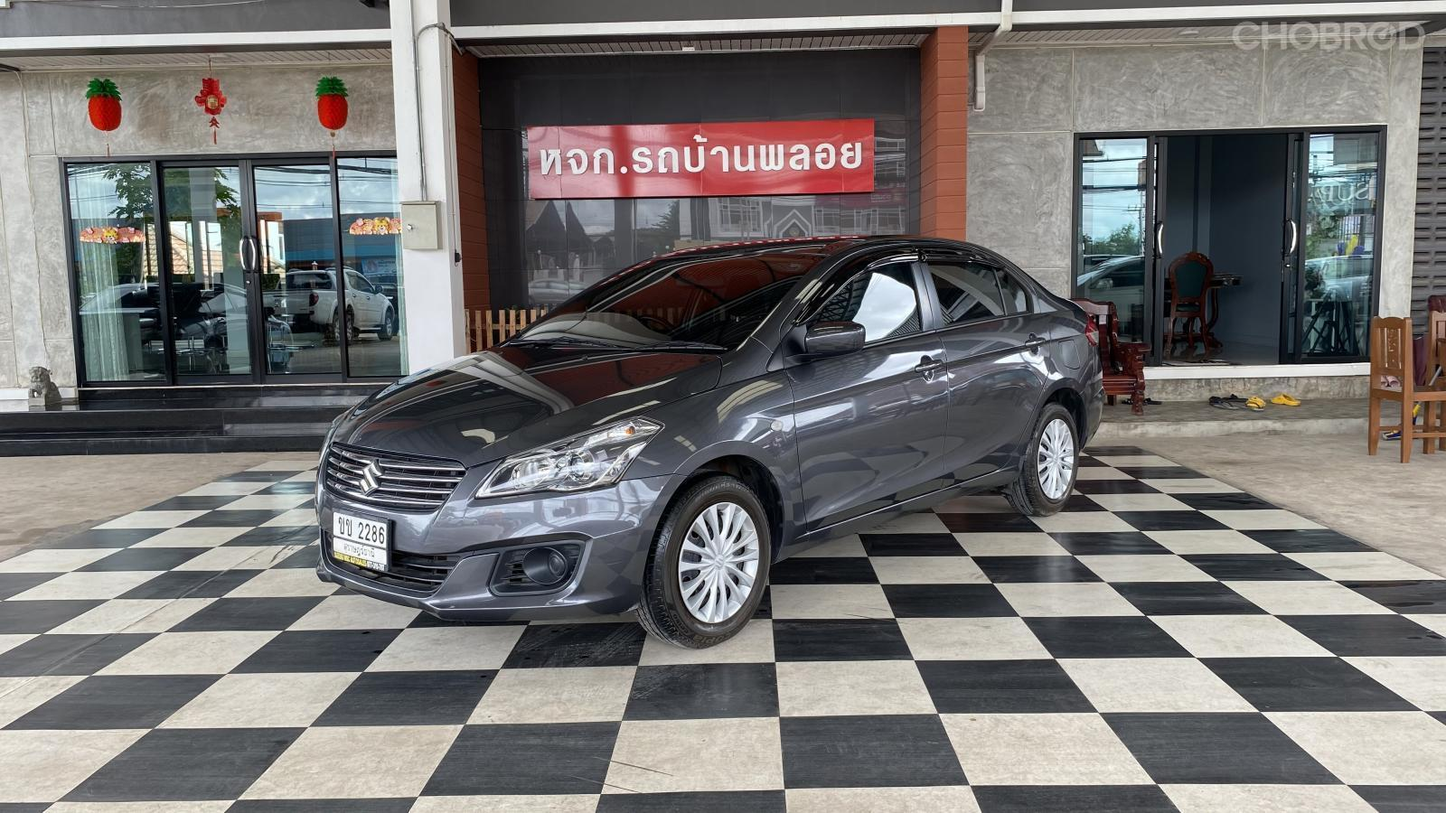license-plate: (328, 505, 394, 575)
